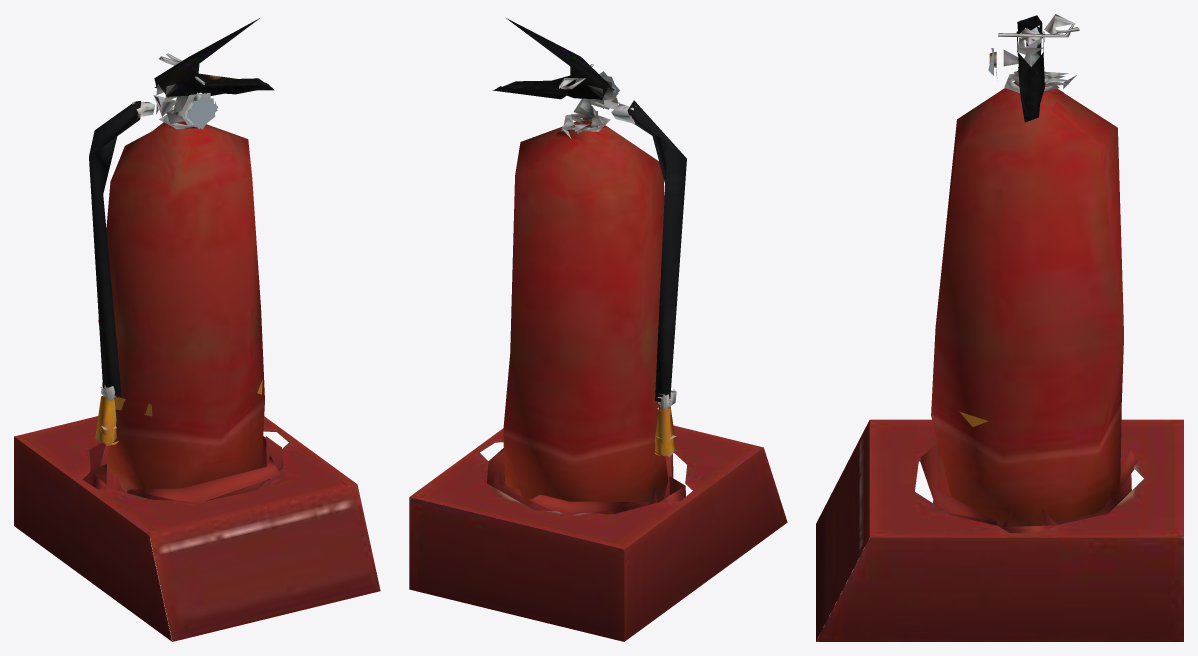
The model's file is extinguisher.glb.
3 renders of one model, left to right at view 1: azimuth 30°, elevation 25°; view 2: azimuth 150°, elevation 25°; view 3: azimuth 270°, elevation 25°, orthographic. The views are drawn at different scales.
Parts seen in each view (by area): view 1: extinguisher; view 2: extinguisher; view 3: extinguisher.
Boxes of the visible parts, x1,y1,x2,y2 form: extinguisher: (14, 18, 380, 641); extinguisher: (409, 18, 787, 641); extinguisher: (816, 14, 1183, 641).
Size of the model in its own units: 0.2796 by 0.6575 by 0.3674.
2 materials, 1 textured.
